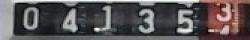digits: (93, 5, 124, 38), (210, 1, 237, 24), (175, 8, 193, 33), (136, 8, 154, 33), (61, 7, 78, 32), (22, 6, 39, 30)
